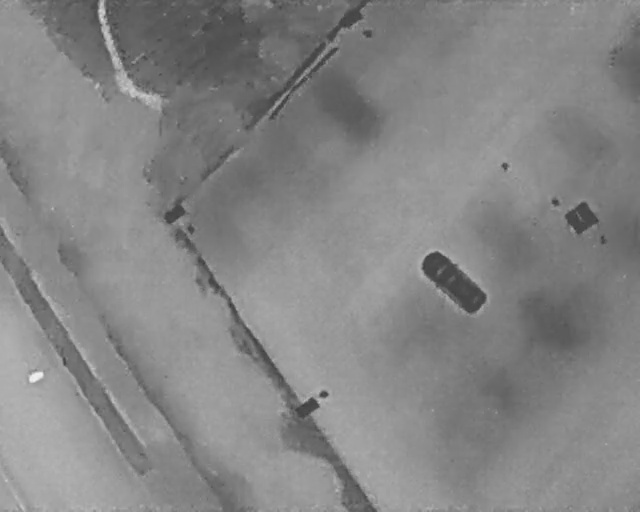Car: (413, 244, 493, 319)
